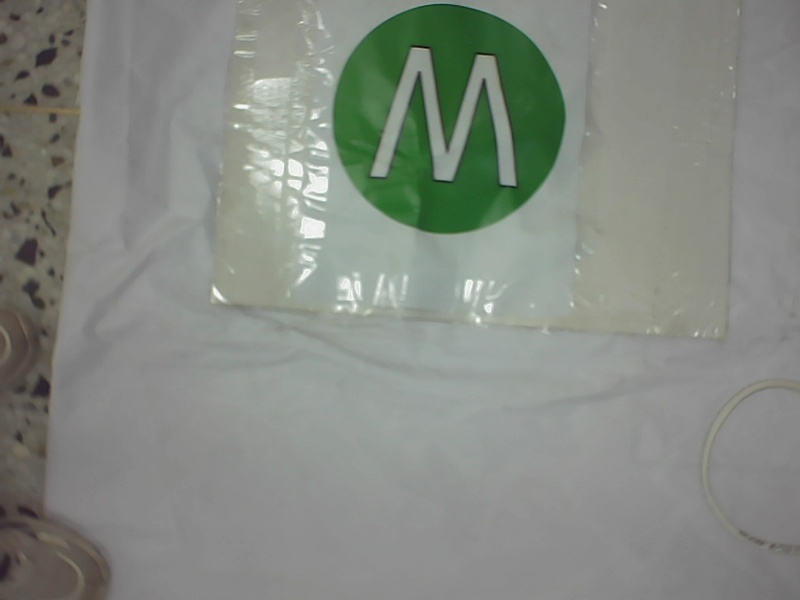areaB: (329, 3, 566, 237)
